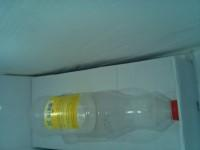bottle: (95, 0, 112, 40)
